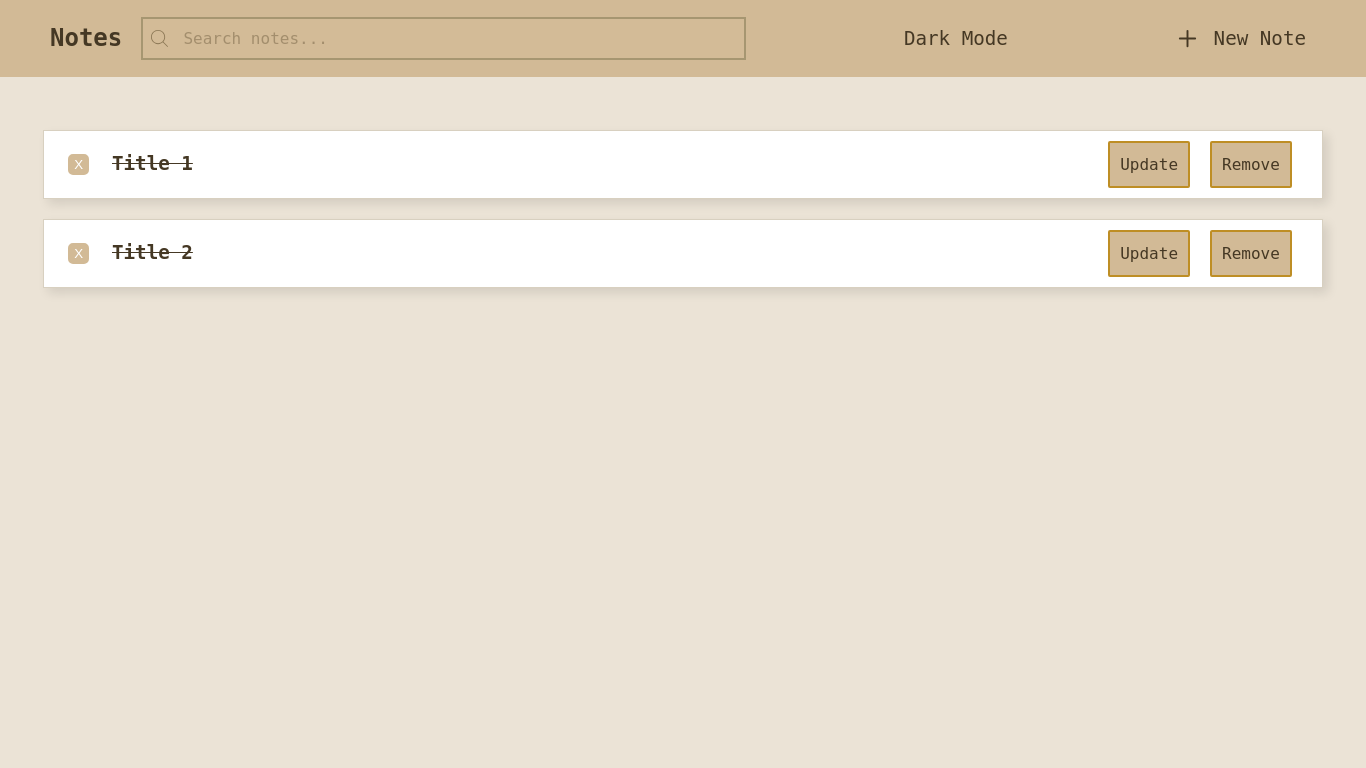
Test: home › should show modal component when new note button is clicked
The width and height of the screenshot is (1366, 768).
Click the button "New Note": (1241, 38) [1166,17,1316,60]
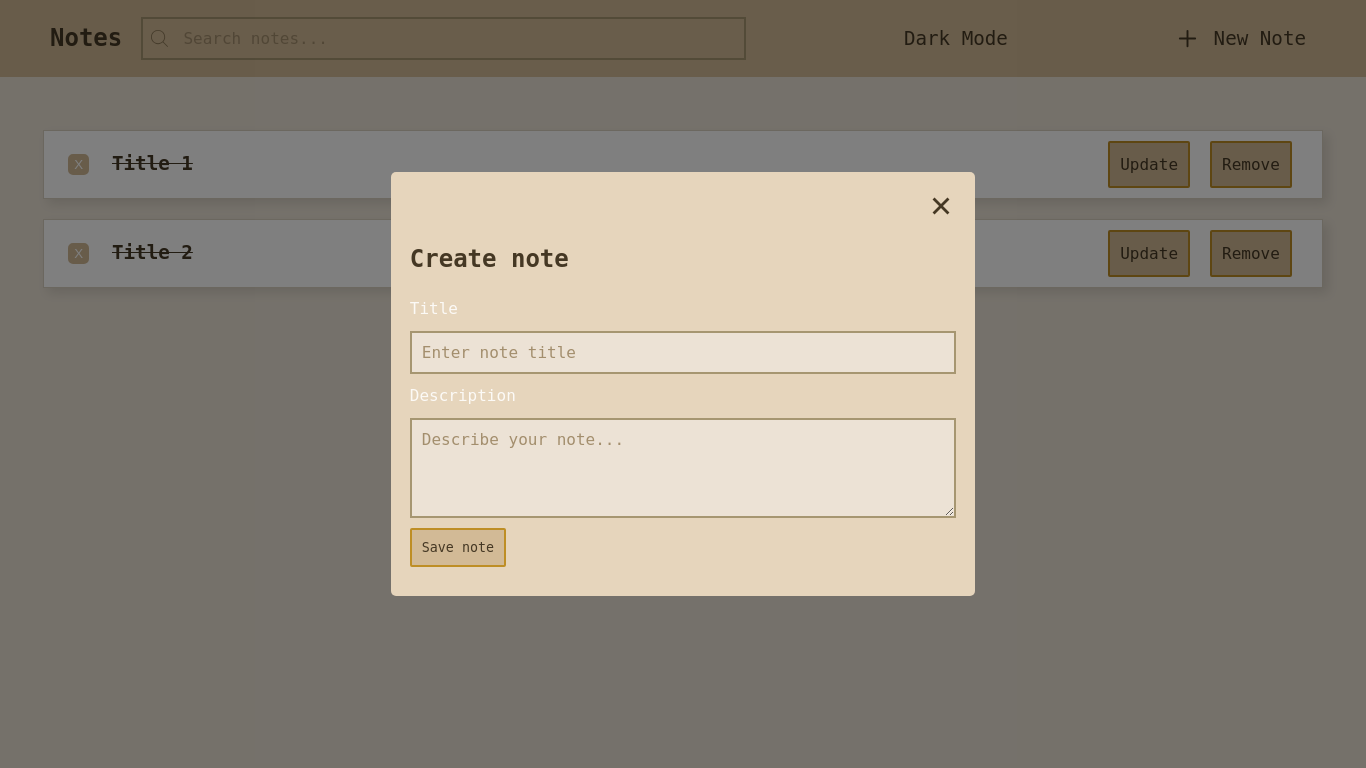
Check: the heading "Create note" is shown, box [410,245,569,273]
